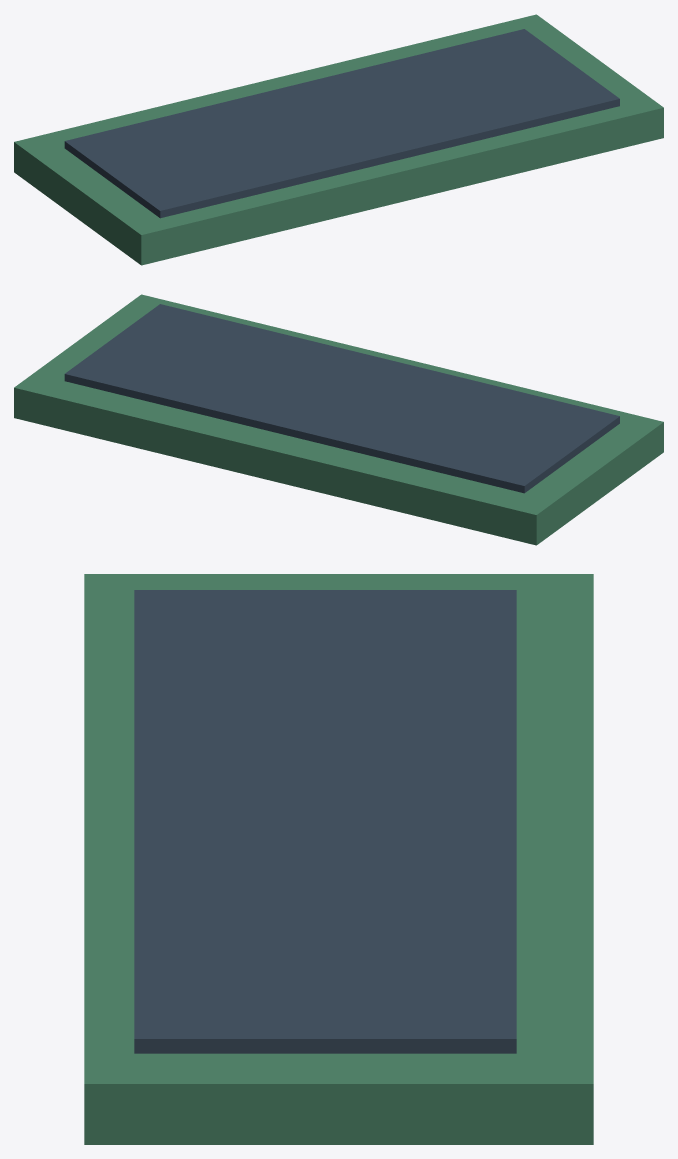
Rendered from epaper-29.glb.
3 views of the same model, one above another, from view 1: azimuth 30°, elevation 25°; view 2: azimuth 150°, elevation 25°; view 3: azimuth 270°, elevation 25° (orthographic). The views are drawn at different scales.
Visible parts, largest first — view 1: epaper-29-display, epaper-29-pcb; view 2: epaper-29-display, epaper-29-pcb; view 3: epaper-29-display, epaper-29-pcb.
Boxes of the visible parts, <box> form: epaper-29-display: <box>64,29,619,218</box>; epaper-29-pcb: <box>14,14,663,265</box>; epaper-29-display: <box>64,304,619,493</box>; epaper-29-pcb: <box>14,294,663,545</box>; epaper-29-display: <box>134,590,516,1053</box>; epaper-29-pcb: <box>84,574,593,1144</box>.
Size of the model in its own units: 0.09 by 0.0062 by 0.038.
